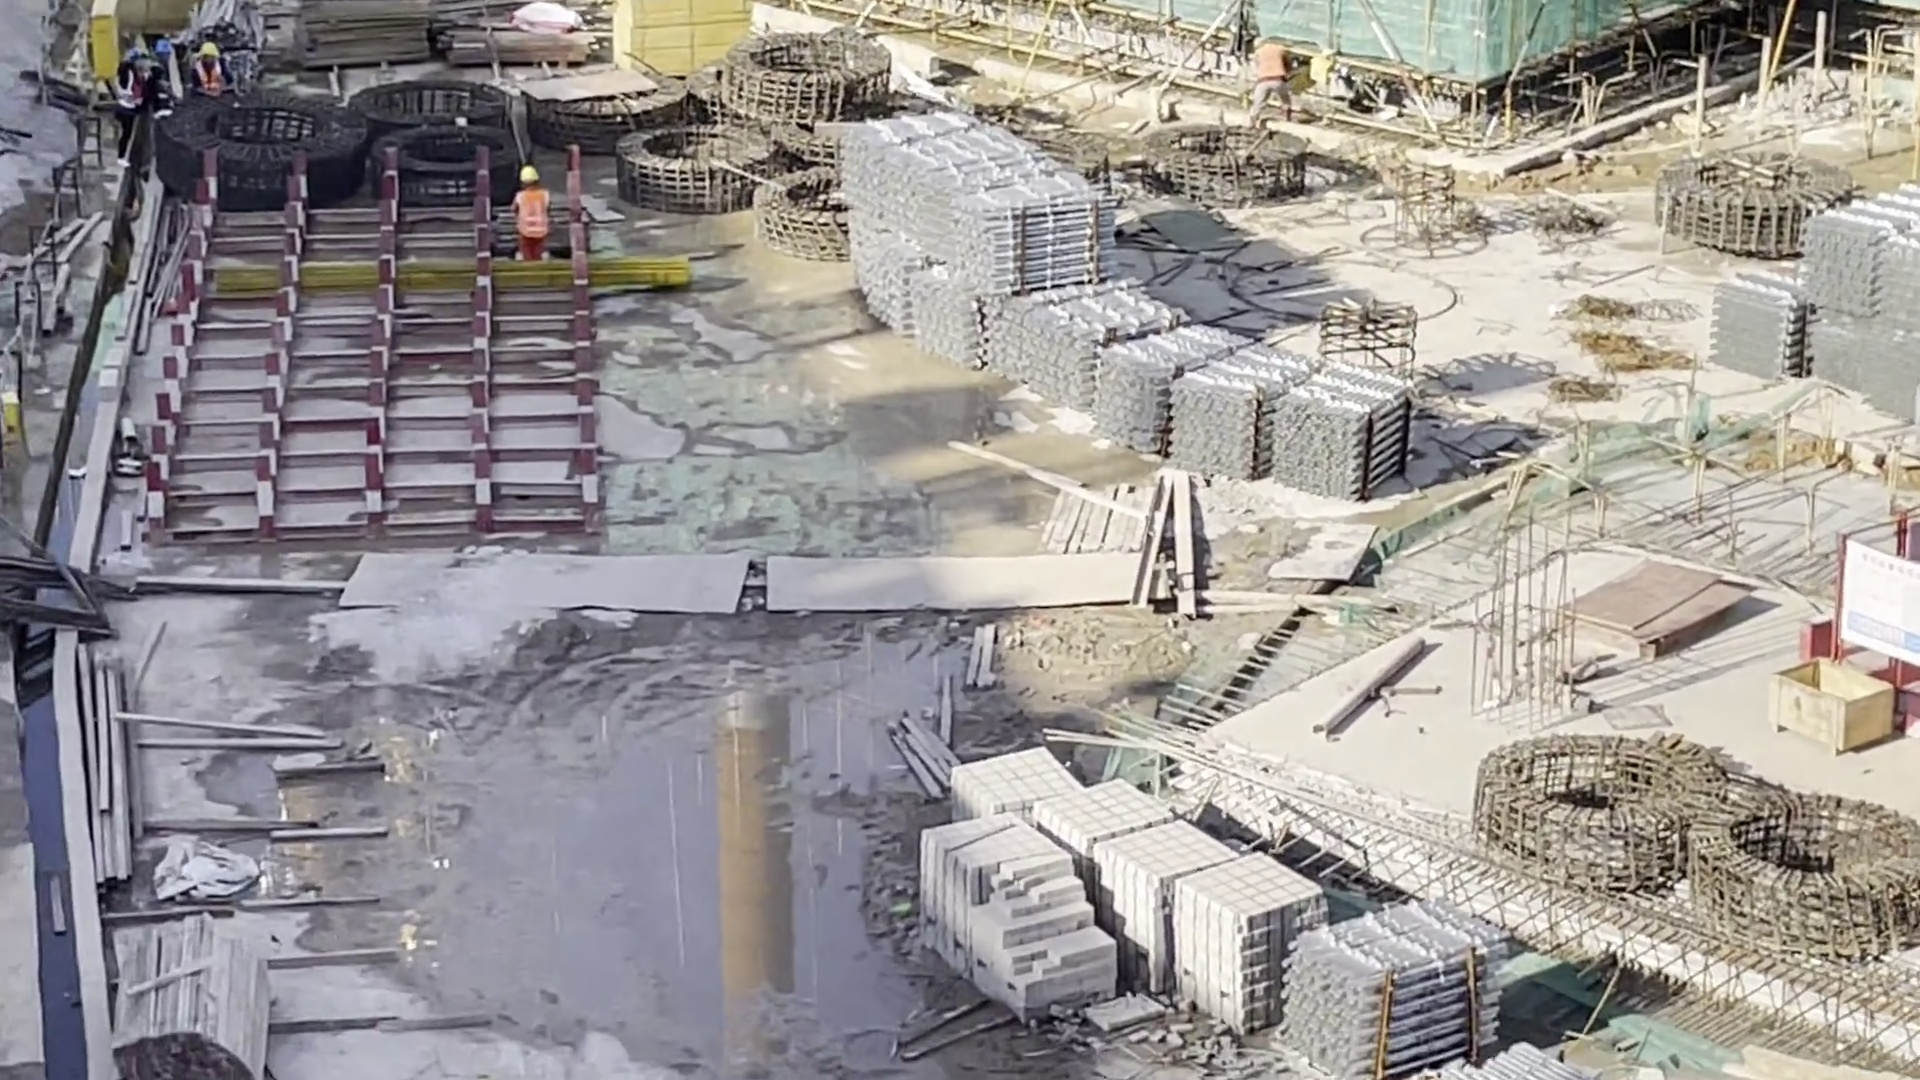board: (1573, 556, 1731, 654), (295, 1, 444, 68), (620, 1, 740, 80)
brick: (926, 774, 1306, 1021)
ebox: (90, 1, 121, 84)
helmet: (198, 44, 221, 60), (519, 167, 539, 183)
person: (1247, 35, 1294, 131), (511, 167, 548, 261), (185, 45, 225, 99)
scaffold: (843, 116, 1119, 365), (1294, 901, 1501, 1068), (1104, 329, 1323, 469), (1816, 189, 1919, 420), (1027, 288, 1186, 410), (1282, 374, 1411, 496), (1716, 264, 1817, 380)
vest: (511, 193, 546, 238), (1248, 45, 1282, 84), (193, 65, 221, 89)
wood: (112, 934, 265, 1080)
